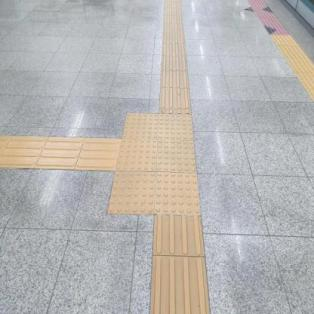Podoctatil: (99, 92, 221, 238), (247, 0, 314, 100), (148, 218, 211, 314), (0, 132, 118, 174), (158, 0, 191, 115)
